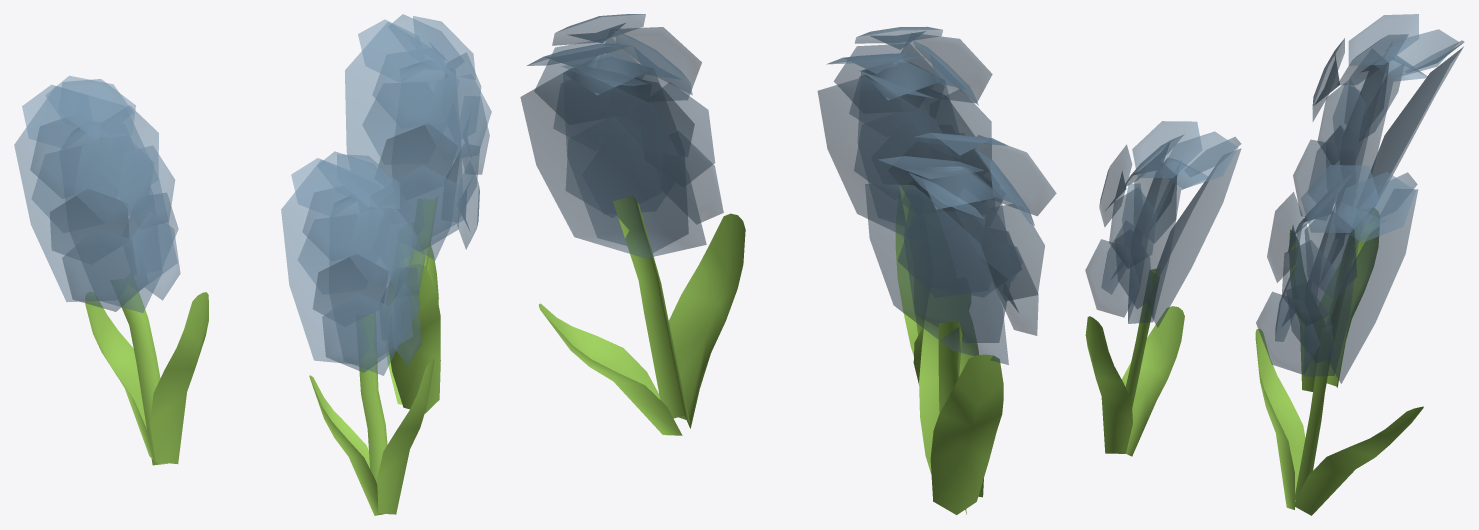
File: flower-hyacinth.glb
3 views of the same model, side by side, from view 1: azimuth 30°, elevation 25°; view 2: azimuth 150°, elevation 25°; view 3: azimuth 270°, elevation 25° (orthographic). The views are drawn at different scales.
Bounding box in the file's own units: 9.35 × 7.63 × 7.18.
